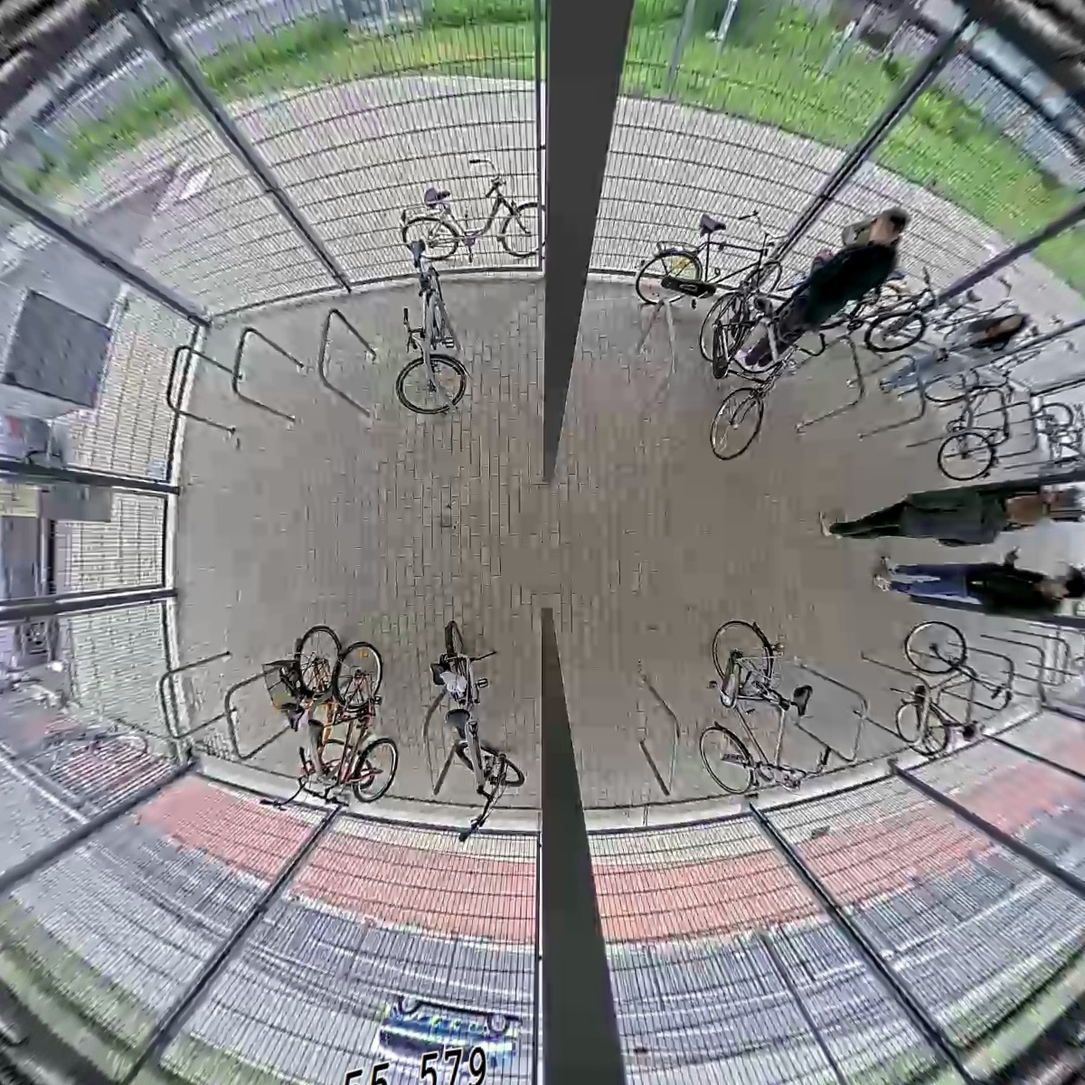bicylce: (695, 613, 836, 806), (420, 610, 533, 847), (691, 282, 831, 463), (889, 611, 1022, 765), (631, 199, 791, 322), (265, 623, 370, 807), (374, 236, 478, 419), (296, 633, 402, 802), (791, 252, 948, 355), (920, 357, 1031, 484)
saddle: (293, 715, 332, 757), (442, 705, 480, 743), (272, 699, 305, 741), (787, 681, 820, 718), (400, 234, 432, 268), (956, 710, 982, 749), (691, 212, 732, 236), (749, 291, 777, 322), (999, 416, 1020, 444)
